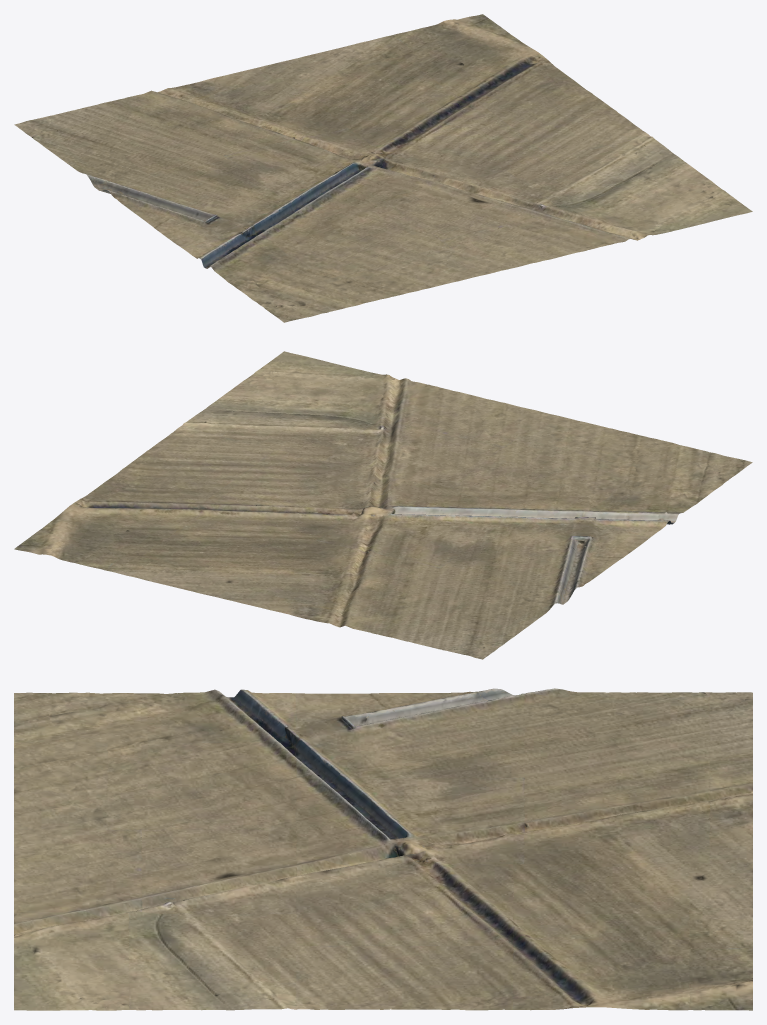
The model's file is village-canal.glb.
3 views of the same model, one above another, from view 1: azimuth 30°, elevation 25°; view 2: azimuth 150°, elevation 25°; view 3: azimuth 270°, elevation 25° (orthographic). The views are drawn at different scales.
Parts seen in each view (by area): view 1: Object_2; view 2: Object_2; view 3: Object_2.
Boxes of the visible parts, <box> form: Object_2: <box>14,14,752,322</box>; Object_2: <box>14,351,752,659</box>; Object_2: <box>14,688,752,1010</box>.
Size of the model in its own units: 209 by 4.02 by 208.
1 material, 1 textured.
